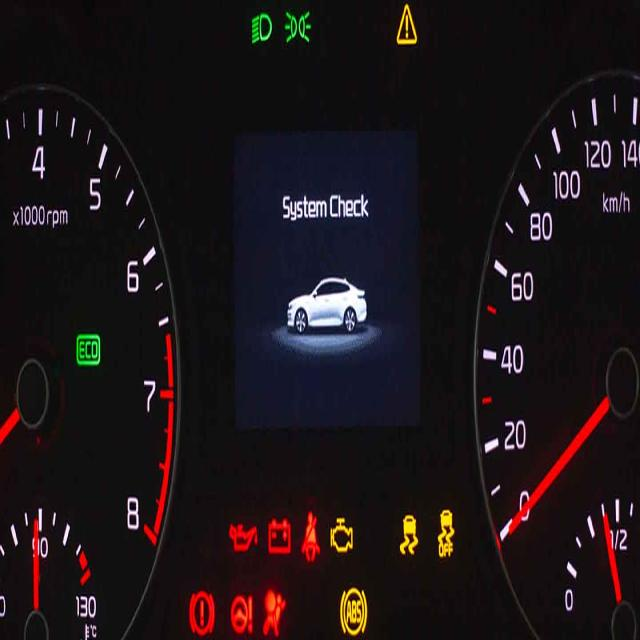kontrolka: (183, 577, 219, 639), (338, 577, 372, 639), (432, 496, 458, 570), (280, 8, 317, 53), (223, 518, 261, 560), (226, 586, 256, 639), (264, 512, 295, 561), (326, 513, 356, 561), (396, 500, 420, 560), (260, 586, 286, 639), (245, 8, 273, 51)
